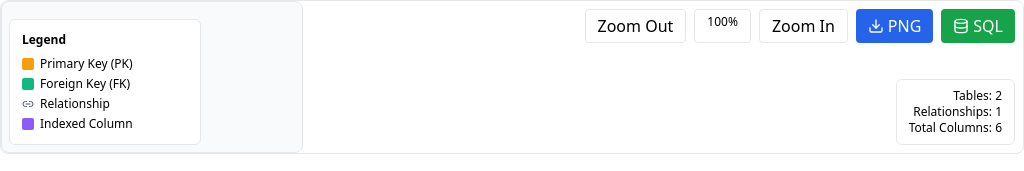
Test: DatabaseSchemaViz › handles zoom in and zoom out
Expected: the text "100%" is shown, [694,9,751,43]
Click the button "Zoom In".
click(803, 26)  # box [759,9,848,43]
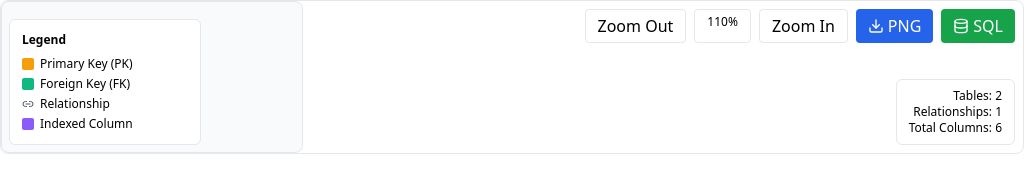
Expected: the text "110%" is shown, [694,9,751,43]
Click the button "Zoom Out".
click(635, 26)  # box [584,9,686,43]
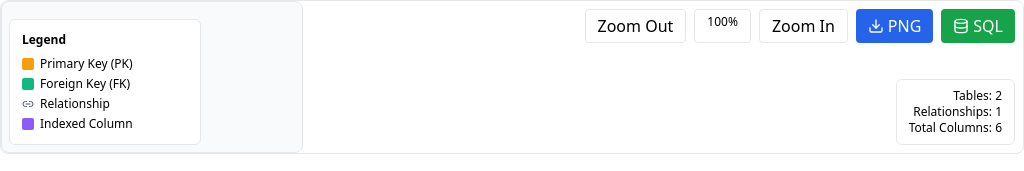
Expected: the text "100%" is shown, [694,9,751,43]
